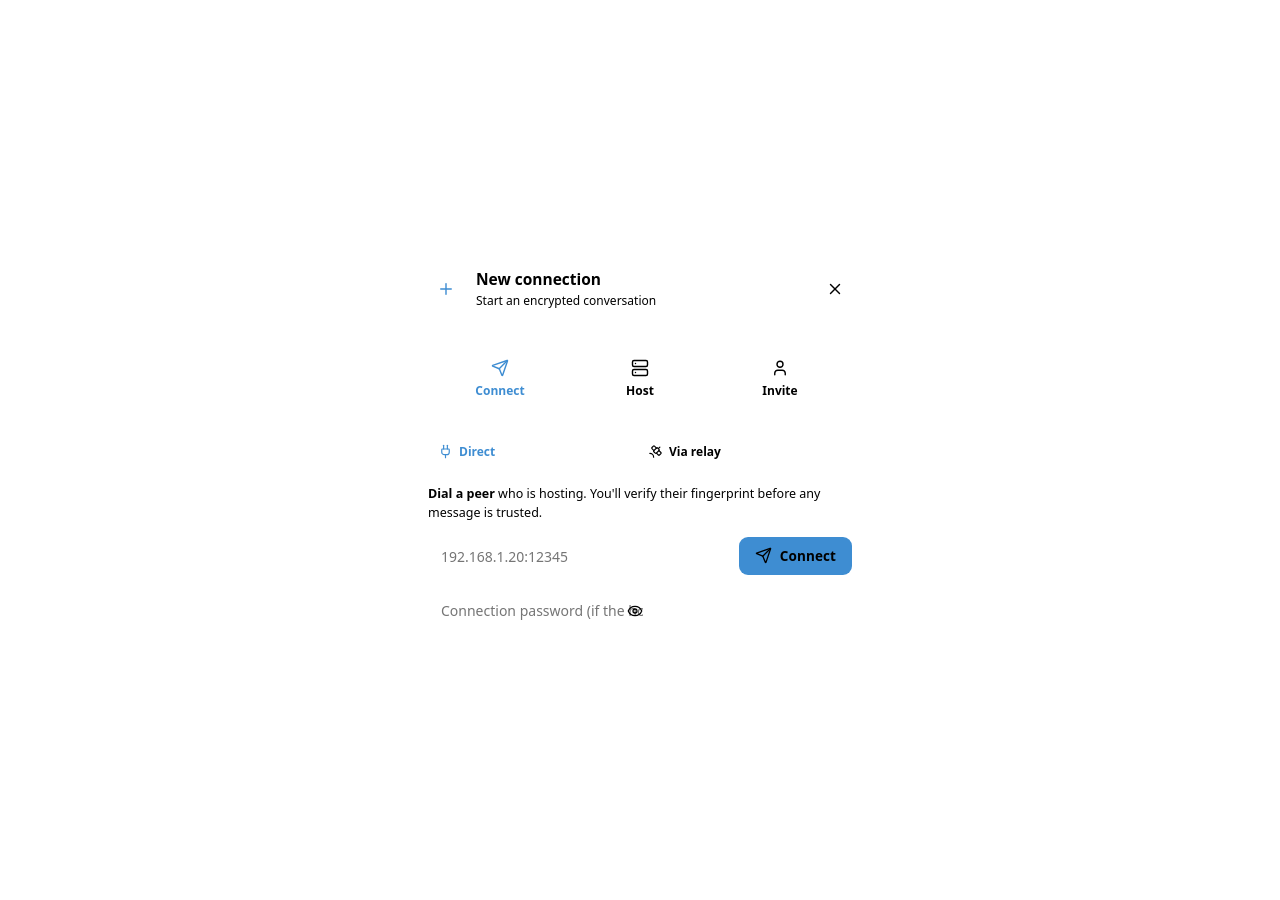
Test case: Creator — dialling a peer › names a bad port instead of silently dialling 12345
Type "10.0.0.5:99999" into the field with placeholder "192.168.1.20:12345".
click(579, 556); type("10.0.0.5:99999")  # box x1=428 y1=536 x2=731 y2=576
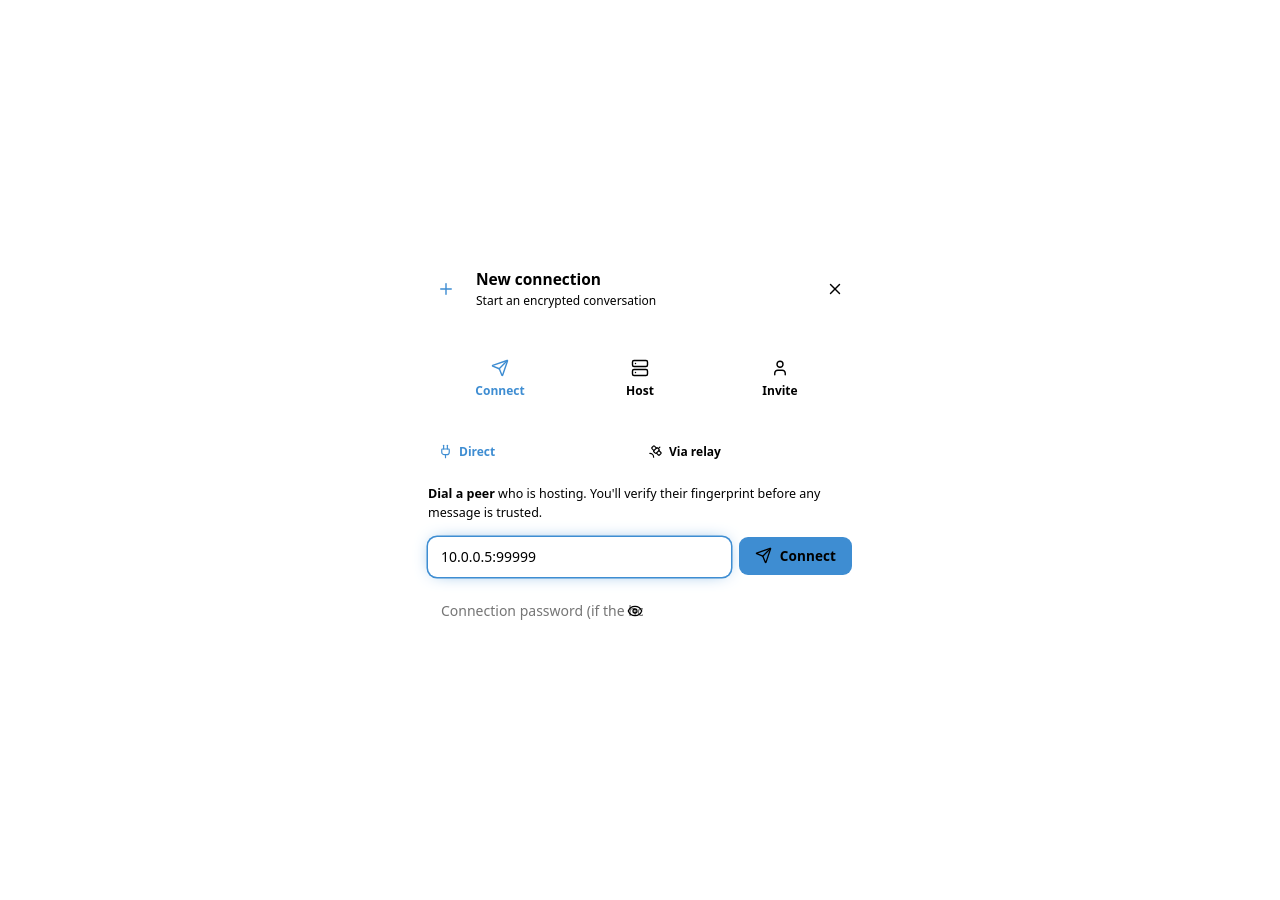
Click the button "Connect" below "Dial a peer".
click(795, 555)  # box x1=739 y1=536 x2=852 y2=574
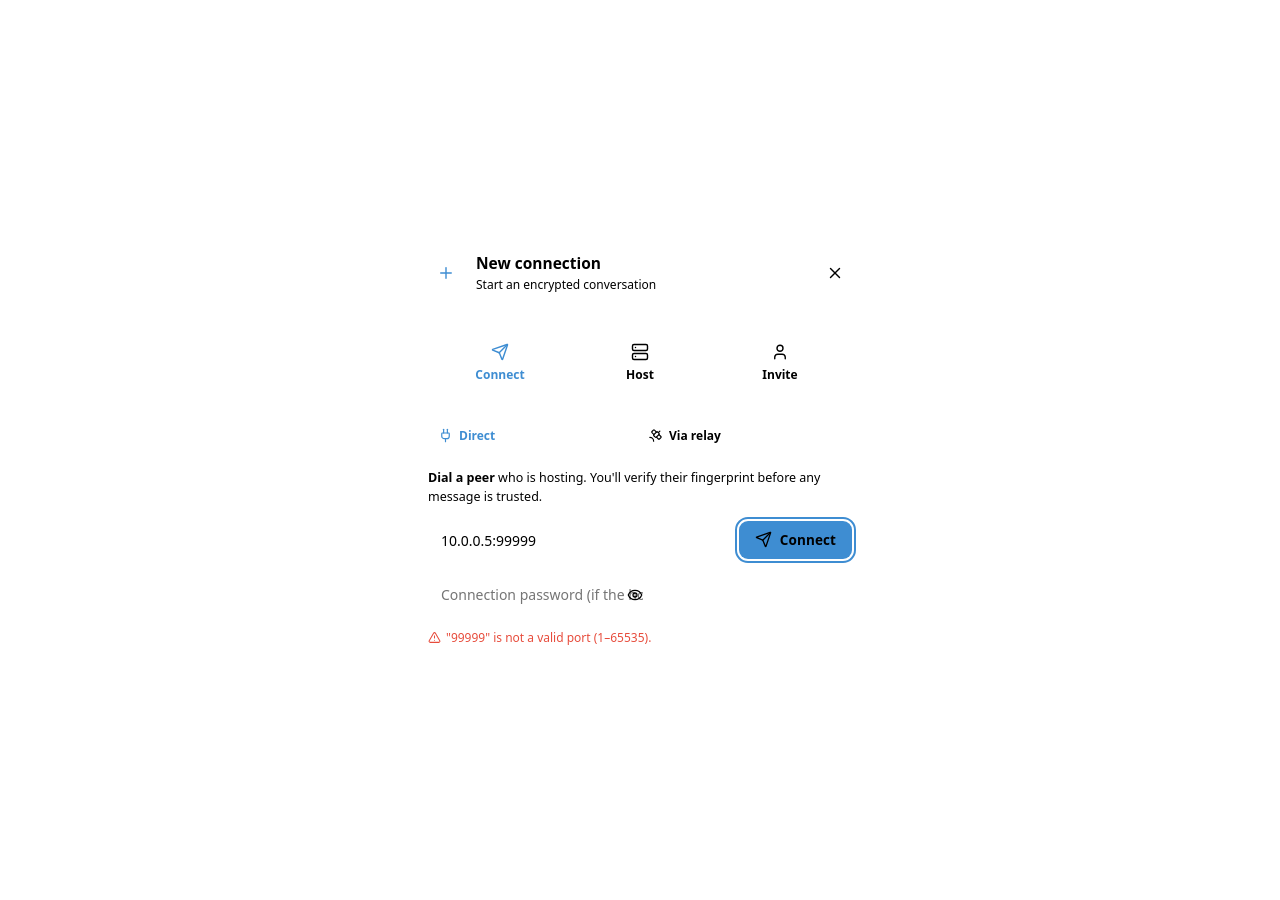
Now the text "\"99999\" is not a valid port (1–65535)." is shown, box x1=428 y1=628 x2=651 y2=645
